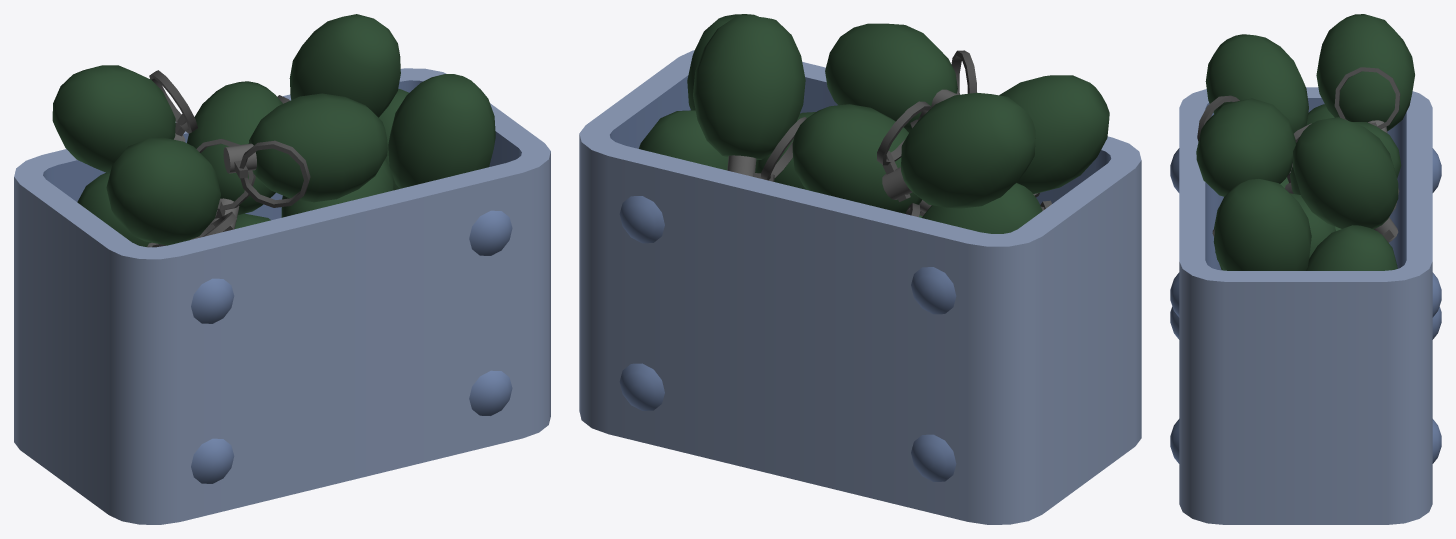
Rendered from Ammo Box E.fbx.
The picture shows the model from 3 angles, left to right: view 1: azimuth 30°, elevation 25°; view 2: azimuth 150°, elevation 25°; view 3: azimuth 270°, elevation 25°; orthographic projection. The views are drawn at different scales.
Visible parts, largest first — view 1: Ammo Box E.016, Ammo Box E.015, Ammo Box E.013, Ammo Box E.011, Ammo Box E, Ammo Box E.014, Ammo Box E.008, Ammo Box E.009, Ammo Box E.010, Ammo Box E.012; view 2: Ammo Box E.016, Ammo Box E.014, Ammo Box E.013, Ammo Box E.015, Ammo Box E.008, Ammo Box E.011, Ammo Box E.010, Ammo Box E.012, Ammo Box E, Ammo Box E.009; view 3: Ammo Box E.016, Ammo Box E.014, Ammo Box E.013, Ammo Box E, Ammo Box E.015, Ammo Box E.011, Ammo Box E.012, Ammo Box E.008, Ammo Box E.009, Ammo Box E.010.
Part boxes in pixels (x1=…): Ammo Box E.016: x1=14, y1=68, x2=550, y2=524; Ammo Box E.015: x1=223, y1=93, x2=387, y2=207; Ammo Box E.013: x1=52, y1=65, x2=197, y2=173; Ammo Box E.011: x1=106, y1=137, x2=236, y2=245; Ammo Box E: x1=388, y1=74, x2=495, y2=188; Ammo Box E.014: x1=277, y1=14, x2=400, y2=117; Ammo Box E.008: x1=187, y1=81, x2=282, y2=231; Ammo Box E.009: x1=281, y1=160, x2=393, y2=217; Ammo Box E.010: x1=77, y1=173, x2=189, y2=246; Ammo Box E.012: x1=379, y1=89, x2=408, y2=190; Ammo Box E.016: x1=579, y1=50, x2=1141, y2=524; Ammo Box E.014: x1=693, y1=15, x2=806, y2=181; Ammo Box E.013: x1=877, y1=92, x2=1035, y2=208; Ammo Box E.015: x1=825, y1=23, x2=976, y2=132; Ammo Box E.008: x1=792, y1=104, x2=931, y2=216; Ammo Box E.011: x1=999, y1=75, x2=1109, y2=197; Ammo Box E.010: x1=905, y1=183, x2=1042, y2=233; Ammo Box E.012: x1=639, y1=110, x2=728, y2=170; Ammo Box E: x1=687, y1=14, x2=758, y2=110; Ammo Box E.009: x1=755, y1=112, x2=815, y2=189; Ammo Box E.016: x1=1170, y1=87, x2=1441, y2=524; Ammo Box E.014: x1=1293, y1=117, x2=1398, y2=242; Ammo Box E.013: x1=1316, y1=14, x2=1414, y2=133; Ammo Box E: x1=1213, y1=179, x2=1311, y2=270; Ammo Box E.015: x1=1196, y1=95, x2=1295, y2=196; Ammo Box E.011: x1=1205, y1=34, x2=1308, y2=133; Ammo Box E.012: x1=1306, y1=225, x2=1397, y2=270; Ammo Box E.008: x1=1285, y1=122, x2=1401, y2=194; Ammo Box E.009: x1=1212, y1=193, x2=1335, y2=258; Ammo Box E.010: x1=1296, y1=104, x2=1399, y2=212.
Bounding box in the file's own units: 2.16 × 1.79 × 1.27.
